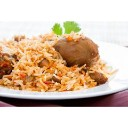briyani: (1, 33, 106, 90)
